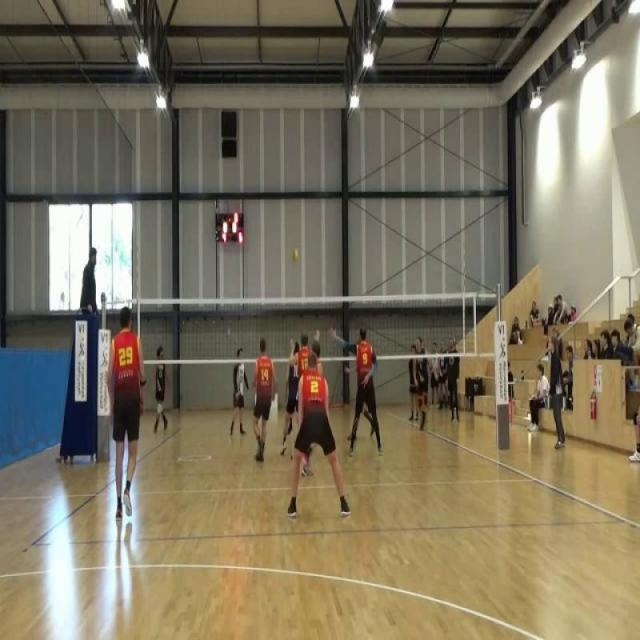volleyball: (291, 247, 300, 266)
